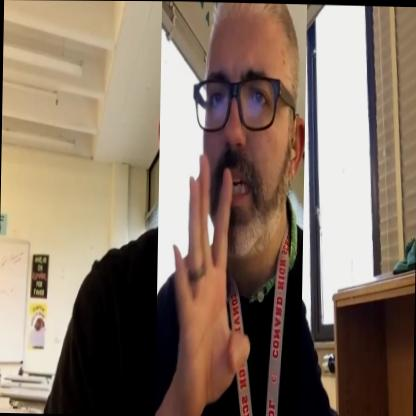Talk: (154, 1, 306, 416)
